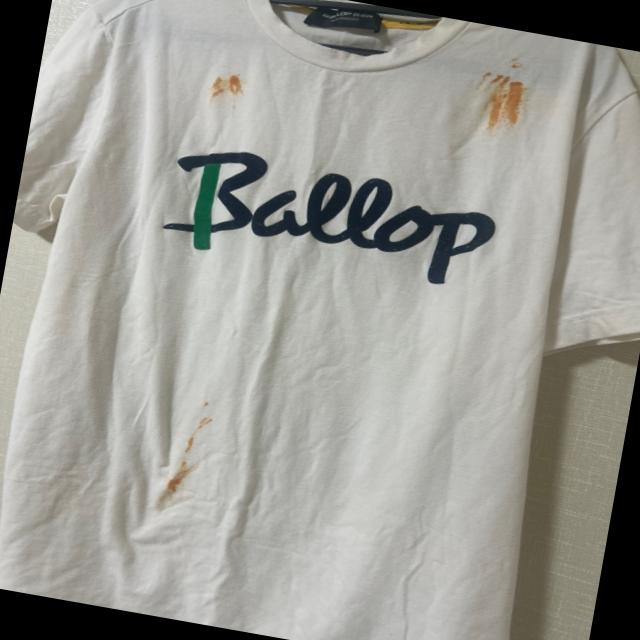stain: (477, 68, 535, 134), (205, 68, 248, 104), (509, 54, 527, 70), (197, 415, 212, 432), (173, 468, 188, 483), (184, 434, 195, 454), (168, 478, 180, 492), (202, 399, 218, 409), (178, 460, 188, 470), (190, 427, 197, 437), (188, 466, 196, 474)
